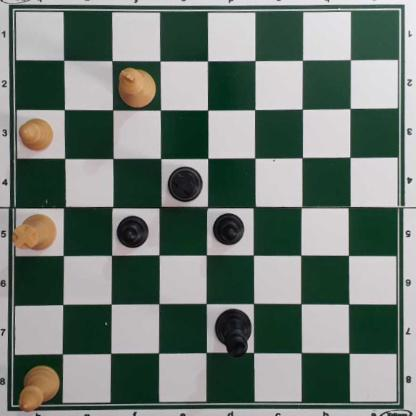black-king: (213, 310, 254, 359)
black-pawn: (117, 216, 150, 250), (213, 213, 245, 246)
black-rook: (168, 167, 202, 204)
white-bishop: (18, 367, 62, 415)
white-king: (119, 66, 158, 111)
white-pawn: (19, 118, 56, 155)
white-rook: (14, 215, 59, 252)
